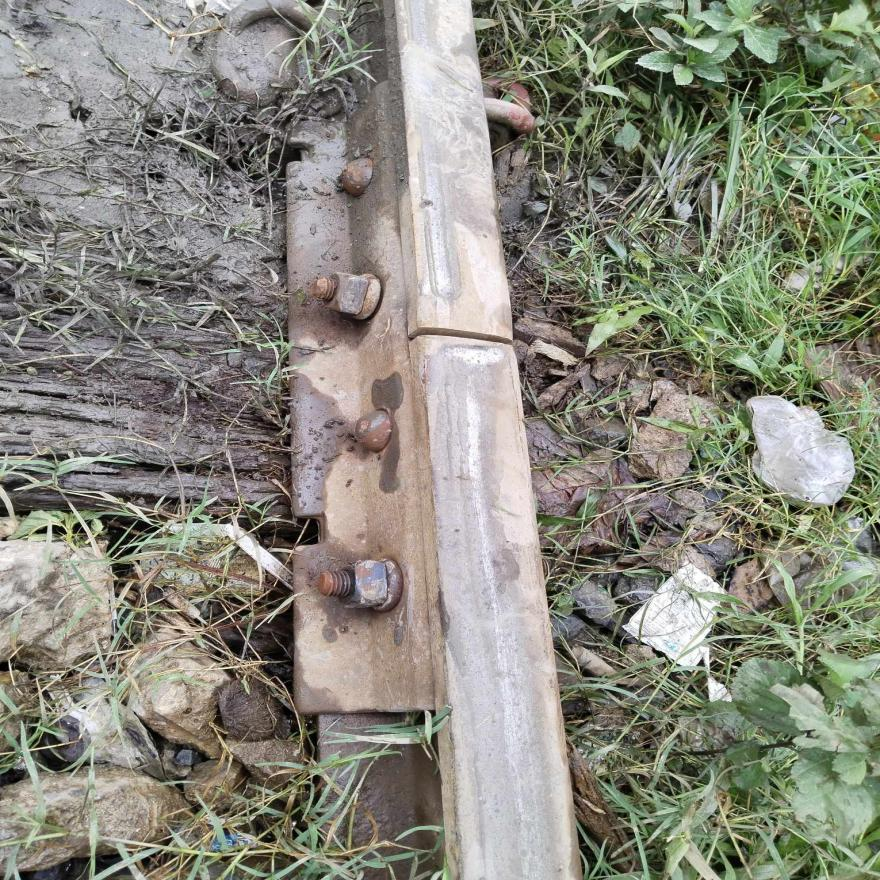railway-gap: (364, 268, 542, 402)
